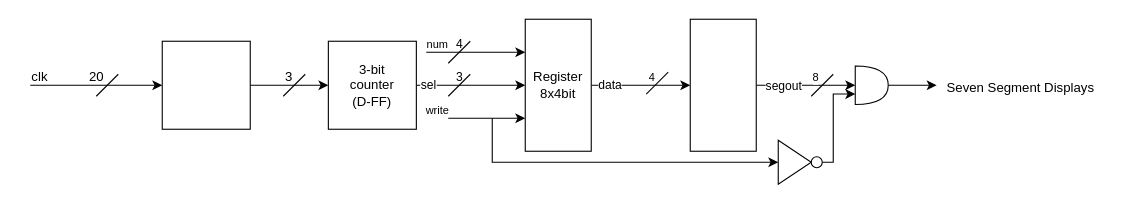
Image size: 1126x204. Some labels were removed from this diagram. Here are the shapes that lost their labels. From the top down, the centre of each, then its label:
the point at 205,84: Clock Divider (T-FF)
the point at 722,84: Seven Segment Decoder
